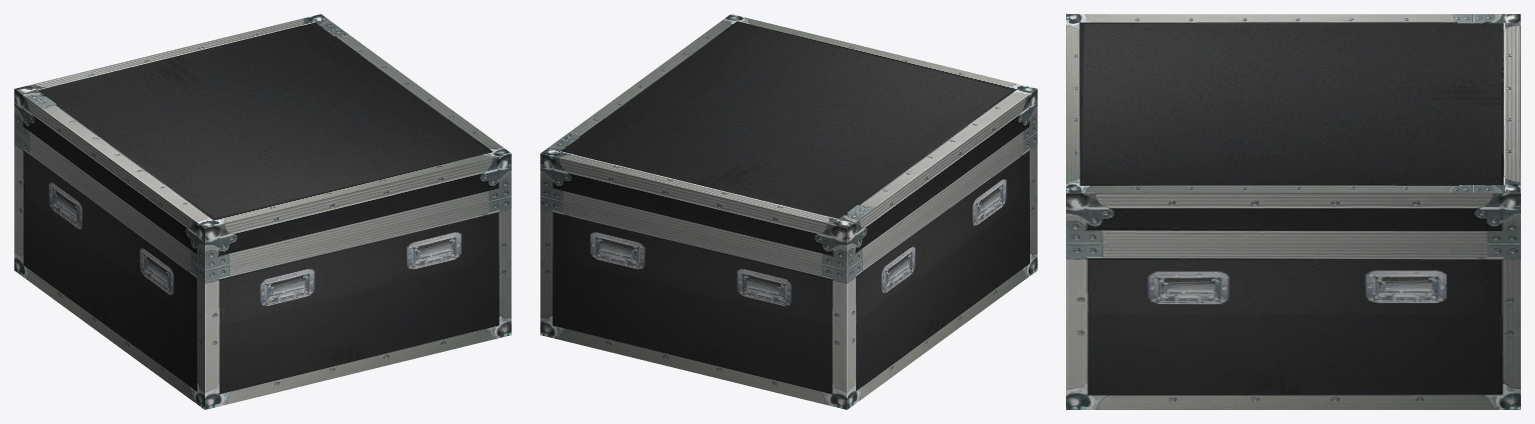
The model's file is Flight_Case_B.fbx.
3 renders of one model, left to right at view 1: azimuth 30°, elevation 25°; view 2: azimuth 150°, elevation 25°; view 3: azimuth 270°, elevation 25°, orthographic. The views are drawn at different scales.
Visible parts, largest first — view 1: Flight_Case; view 2: Flight_Case; view 3: Flight_Case.
Boxes of the visible parts, x1=… form: Flight_Case: x1=14, y1=14, x2=511, y2=409; Flight_Case: x1=540, y1=14, x2=1037, y2=409; Flight_Case: x1=1066, y1=14, x2=1520, y2=409.
Size of the model in its own units: 0.7347 by 0.4162 by 0.7902.
